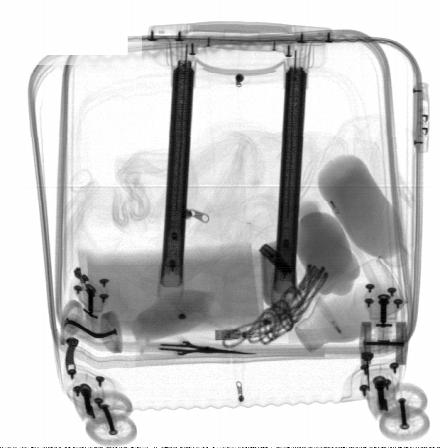Scissors: (141, 329, 257, 373)
